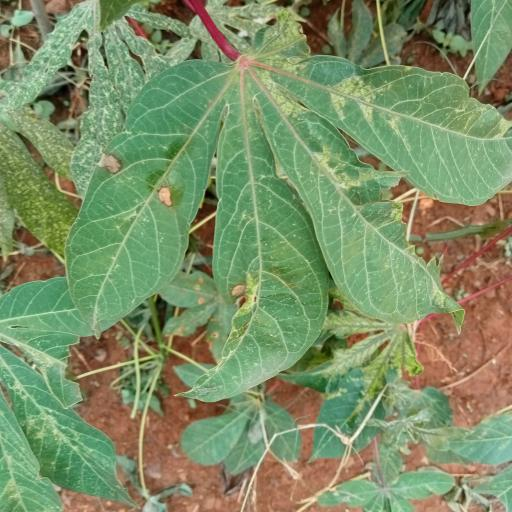Cassava_Brown_Leaf_Spot: (63, 46, 512, 401)
